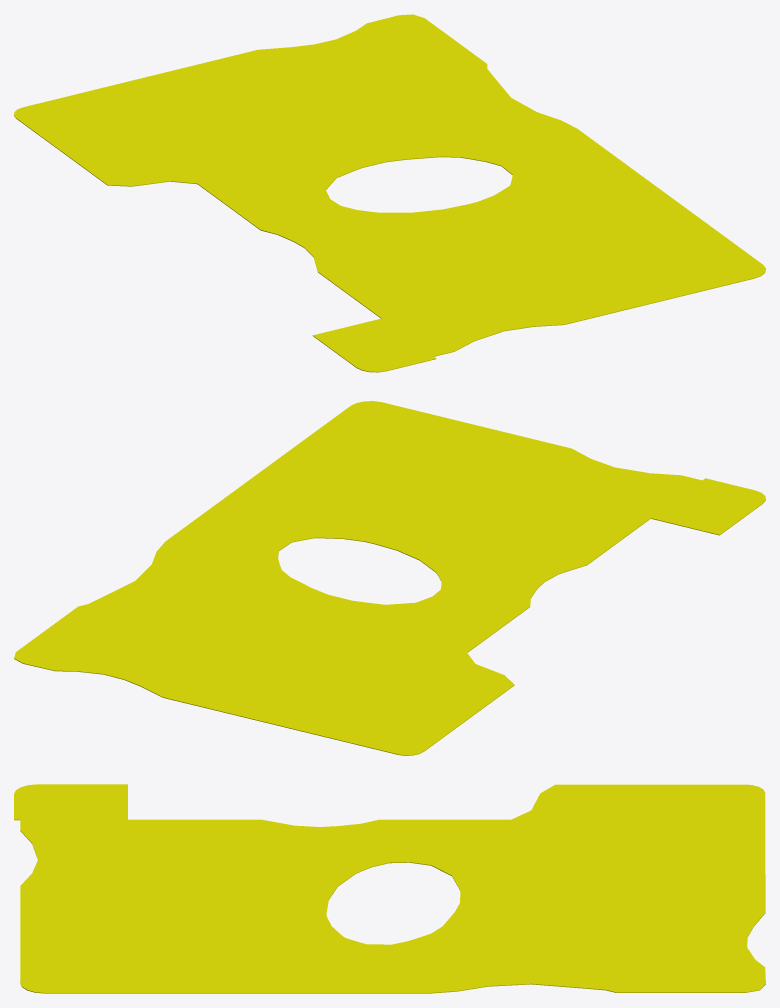
The model's file is sm_hana_building_2f_ceiling.glb.
3 views of the same model, one above another, from view 1: azimuth 30°, elevation 25°; view 2: azimuth 150°, elevation 25°; view 3: azimuth 270°, elevation 25° (orthographic). The views are drawn at different scales.
Visible parts, largest first — view 1: sm_hana_building_2f_ceiling; view 2: sm_hana_building_2f_ceiling; view 3: sm_hana_building_2f_ceiling.
Part boxes in pixels (bbox=[...]): sm_hana_building_2f_ceiling: bbox=[14, 14, 765, 372]; sm_hana_building_2f_ceiling: bbox=[14, 401, 765, 755]; sm_hana_building_2f_ceiling: bbox=[14, 784, 765, 993].
Size of the model in its own units: 64.55 by 0.1021 by 98.43.
1 material, 1 textured.
